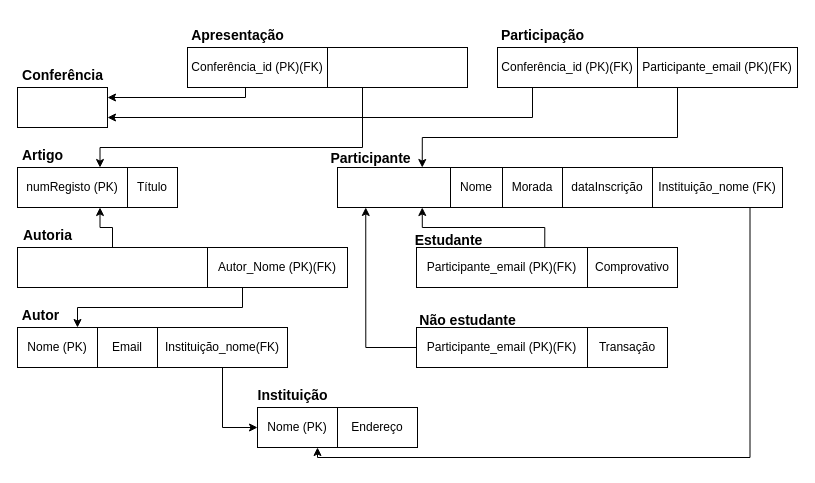
Image size: 815x483. Some labels were removed from this diagram. Each missing label, with the box of its shape:
Artigo_numReg (PK)(FK): (326, 46, 468, 88)
Artigo_numRegisto (PK)(FK): (16, 246, 208, 288)
Email (PK): (336, 166, 450, 208)
ID (PK): (16, 86, 108, 128)
